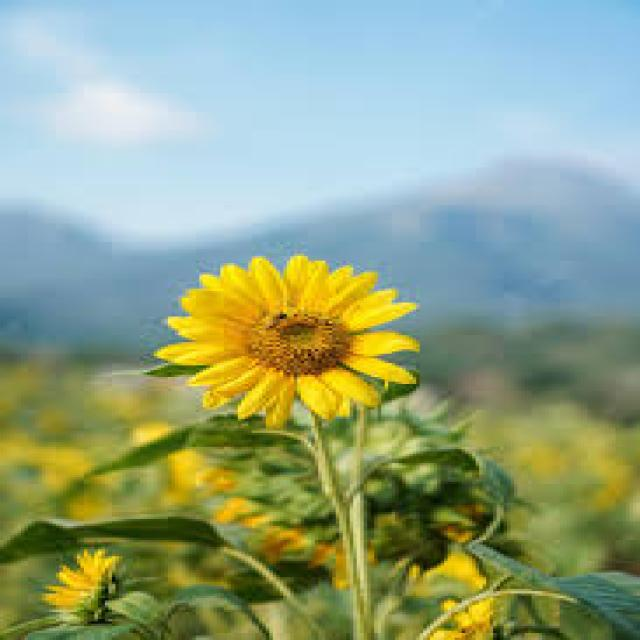sunflower: (147, 252, 422, 432), (35, 544, 124, 630), (422, 591, 520, 640)
